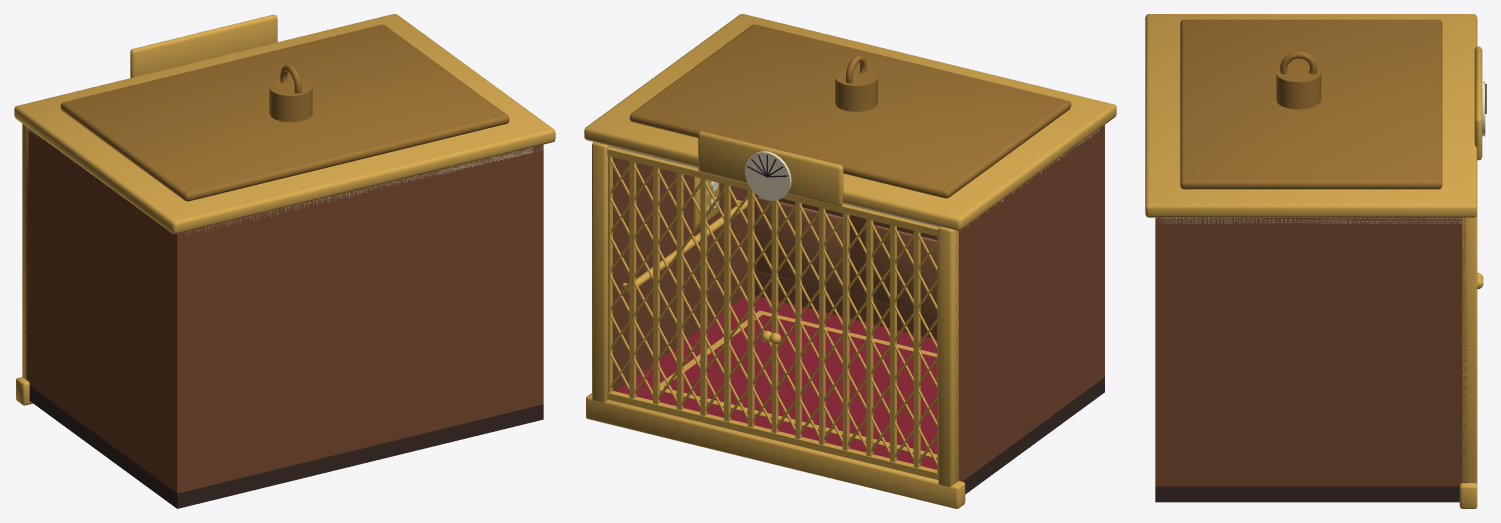
The model's file is Car.fbx.
The picture shows the model from 3 angles, left to right: view 1: azimuth 30°, elevation 25°; view 2: azimuth 150°, elevation 25°; view 3: azimuth 270°, elevation 25°; orthographic projection. The views are drawn at different scales.
Visible parts, largest first — view 1: Body; view 2: Body, DoorL, DoorR; view 3: Body.
Part boxes in pixels (x1,y1,x2,y2): Body: (14,14,555,508); Body: (584,14,1116,508); DoorL: (607,147,778,439); DoorR: (769,193,938,479); Body: (1145,14,1486,508).
Size of the model in its own units: 3.66 by 3.21 by 2.74.
